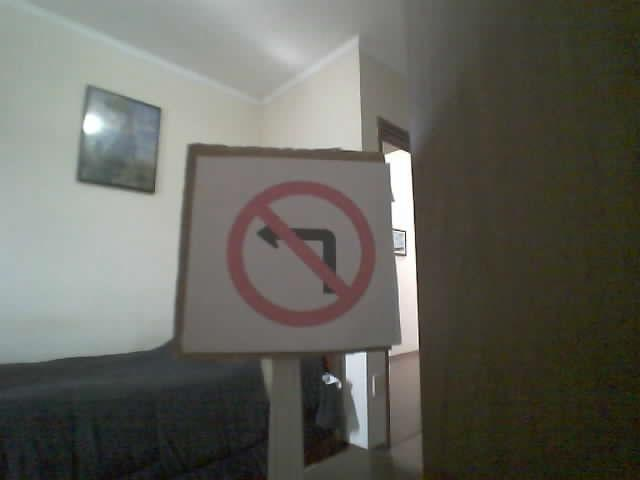R-4a_proibido-esquerda: (225, 180, 375, 327)
